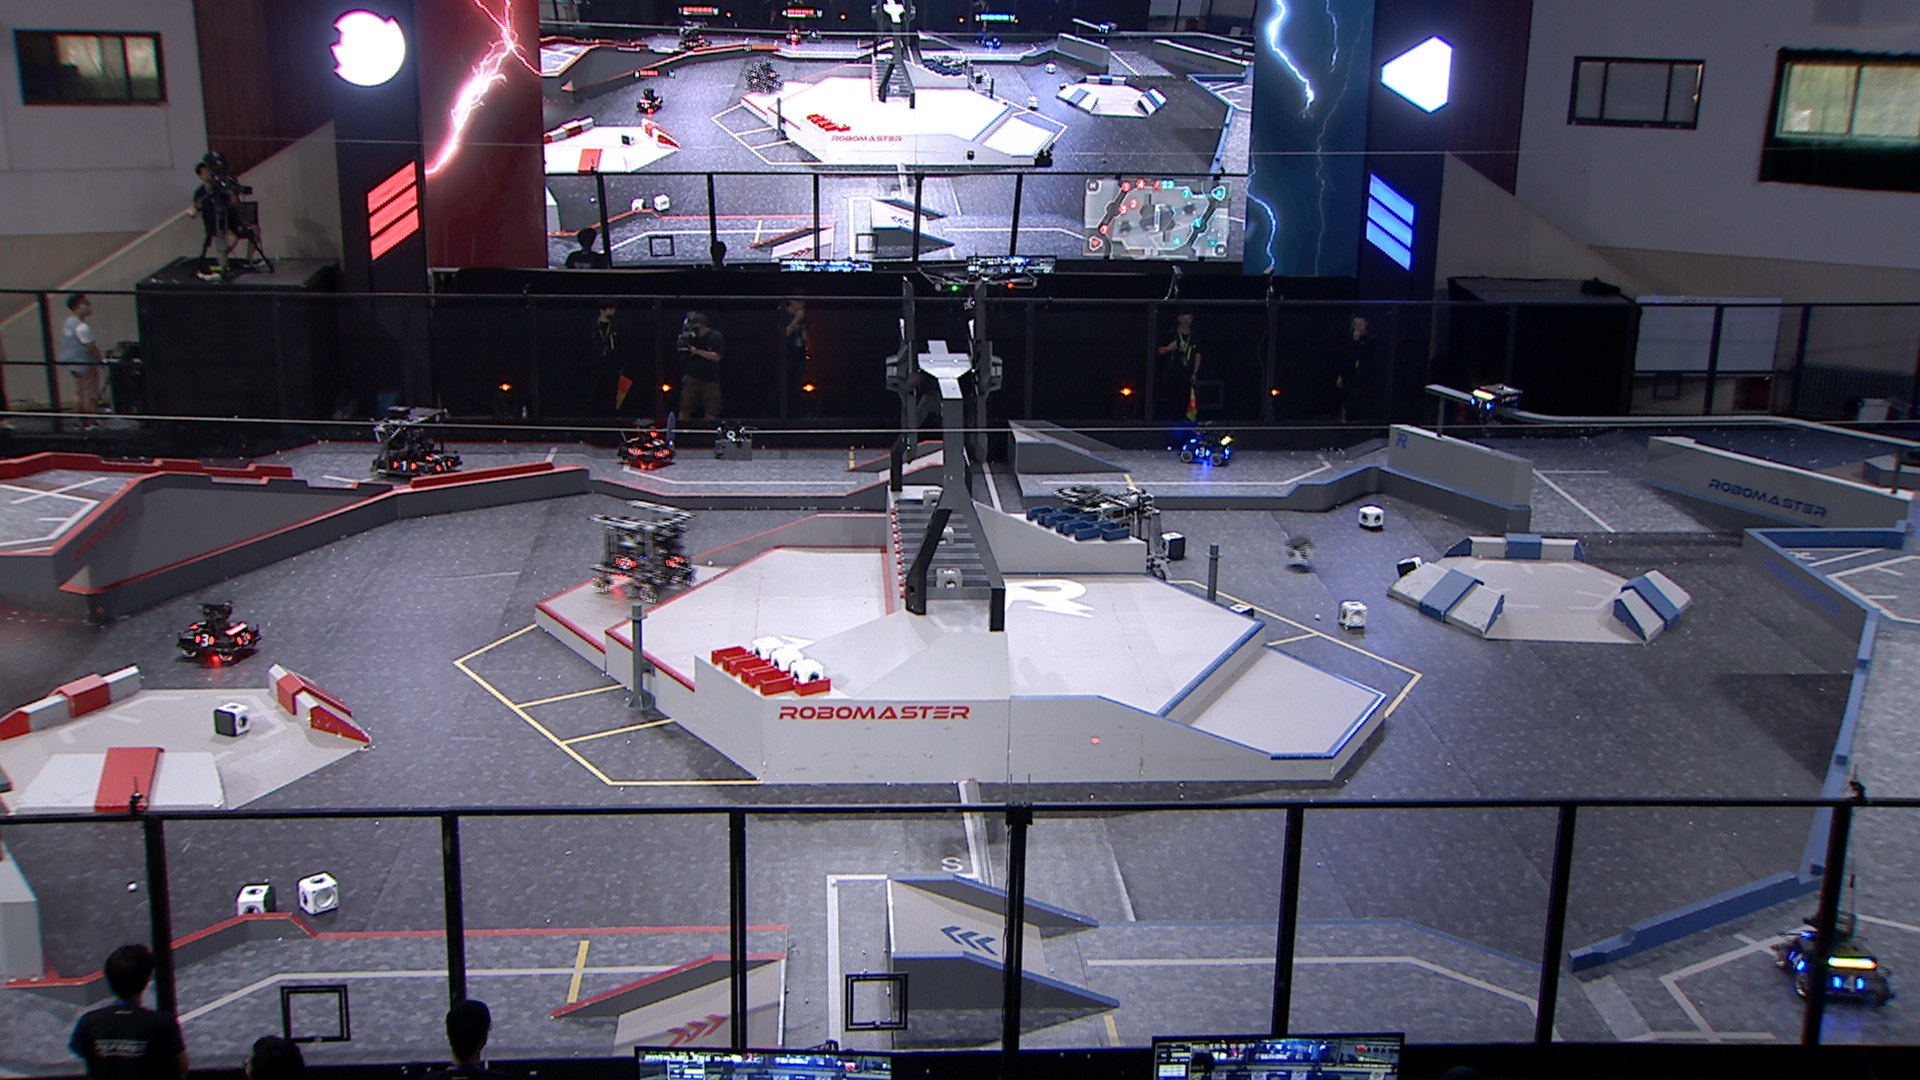armor: (1830, 968, 1869, 998), (1782, 945, 1807, 972), (1466, 396, 1495, 414), (229, 628, 252, 651), (662, 553, 686, 572), (390, 458, 418, 473), (191, 632, 216, 647), (422, 447, 446, 463), (615, 553, 633, 572), (434, 458, 454, 475), (189, 615, 206, 632), (655, 446, 674, 462), (645, 436, 667, 448), (1191, 444, 1211, 458), (626, 446, 645, 458)
car: (1774, 906, 1899, 1010), (591, 493, 695, 609), (1064, 481, 1174, 591), (371, 400, 465, 484), (171, 597, 262, 669), (618, 417, 680, 473), (1178, 417, 1240, 471)
ignore: (932, 46, 975, 91), (746, 62, 783, 92), (678, 26, 713, 53), (637, 87, 666, 115), (975, 26, 1004, 51), (783, 21, 806, 45), (1095, 22, 1116, 47)
watcher: (1465, 380, 1524, 438)
